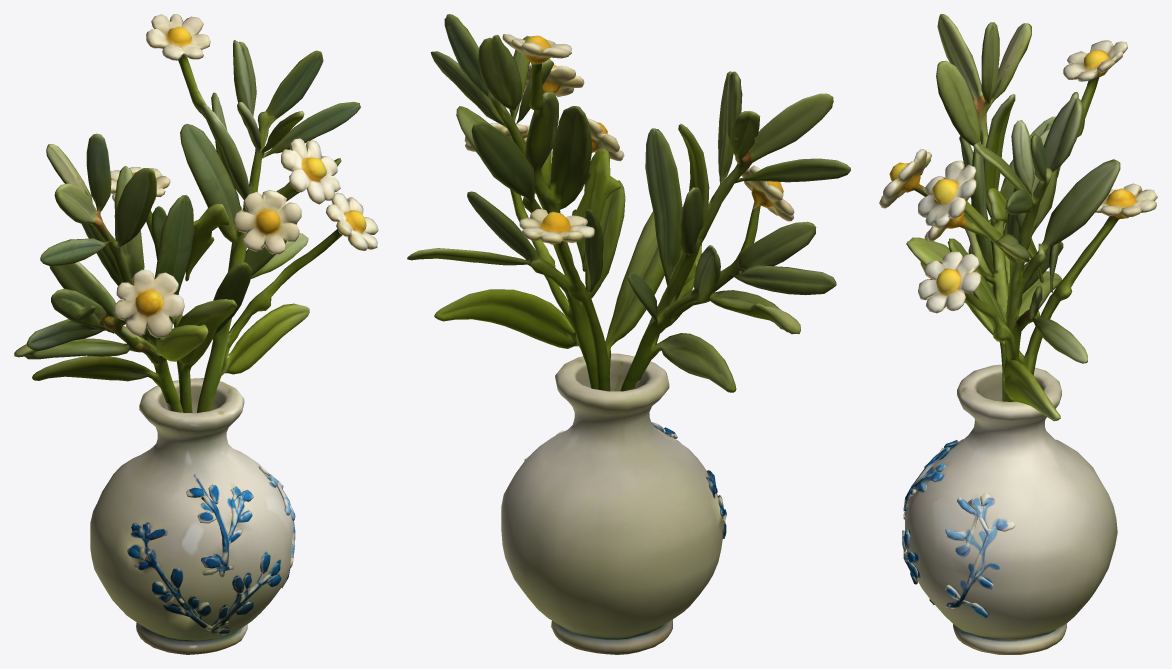
Rendered from family-celadon-flowers-v1.glb.
3 renders of one model, left to right at view 1: azimuth 30°, elevation 25°; view 2: azimuth 150°, elevation 25°; view 3: azimuth 270°, elevation 25°, orthographic. The views are drawn at different scales.
Parts seen in each view (by area): view 1: Daisies in celadon; view 2: Daisies in celadon; view 3: Daisies in celadon.
Part boxes in pixels (x1=…): Daisies in celadon: x1=14, y1=14, x2=378, y2=654; Daisies in celadon: x1=407, y1=14, x2=850, y2=654; Daisies in celadon: x1=879, y1=14, x2=1157, y2=654.
Bounding box in the file's own units: 0.18 × 0.2796 × 0.1176.
1 material, 1 textured.
